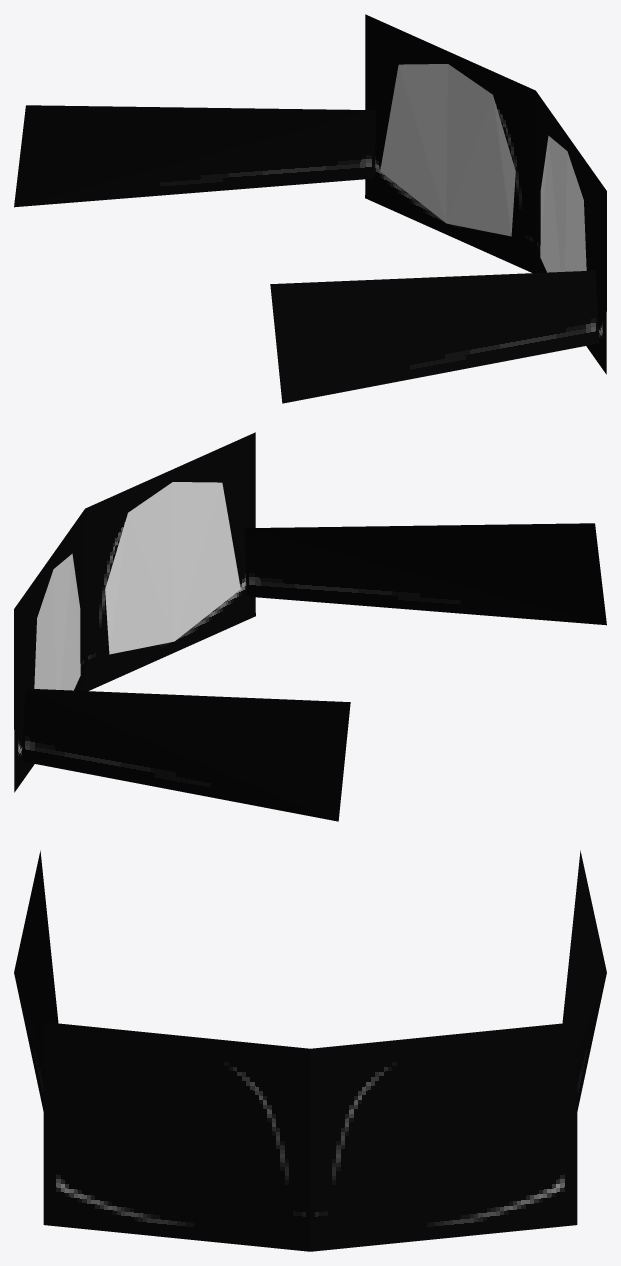
Rendered from ma_glass1_bake.dae.
3 renders of one model, top to bottom at view 1: azimuth 30°, elevation 25°; view 2: azimuth 150°, elevation 25°; view 3: azimuth 270°, elevation 25°, orthographic. The views are drawn at different scales.
Visible parts, largest first — view 1: m0, m1; view 2: m0, m1; view 3: m0.
Boxes of the visible parts, box(x1,y1,x2,y2) form: m0: box(14, 14, 606, 403); m1: box(380, 64, 586, 272); m0: box(14, 432, 606, 821); m1: box(34, 482, 240, 690); m0: box(14, 850, 606, 1251).
Size of the model in its own units: 41.63 by 18.86 by 49.9.
Materials: 3 (2 with a texture image).
